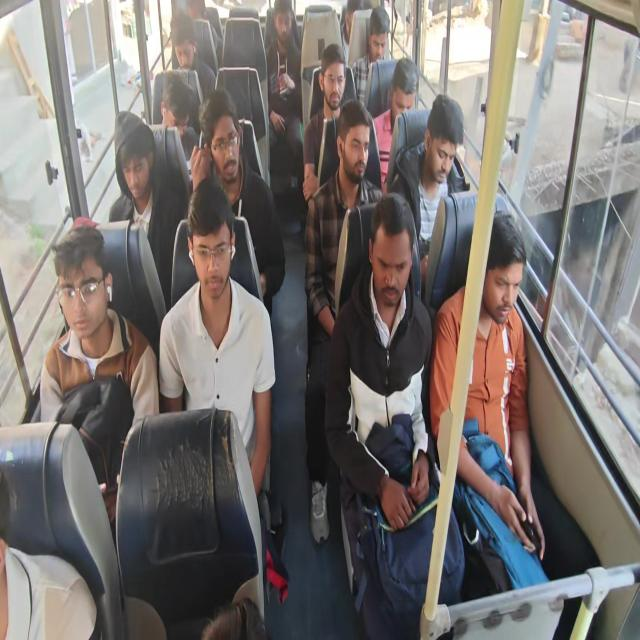person: (324, 191, 466, 638), (429, 210, 546, 562), (158, 177, 276, 504), (39, 218, 159, 536), (304, 99, 384, 546), (188, 88, 286, 316), (0, 466, 97, 639), (388, 93, 465, 286), (108, 120, 184, 312), (265, 0, 303, 191), (302, 43, 346, 205), (372, 57, 419, 191), (151, 73, 198, 167), (169, 10, 216, 101), (350, 5, 390, 106), (340, 0, 372, 66), (160, 74, 191, 137)
